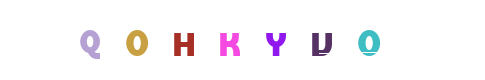0: (99, 0, 179, 80), (329, 0, 409, 80)
H: (190, 0, 270, 80)
K: (203, 0, 283, 80)
Q: (87, 0, 167, 80)
V: (235, 0, 315, 80)
Y: (210, 0, 290, 80)
